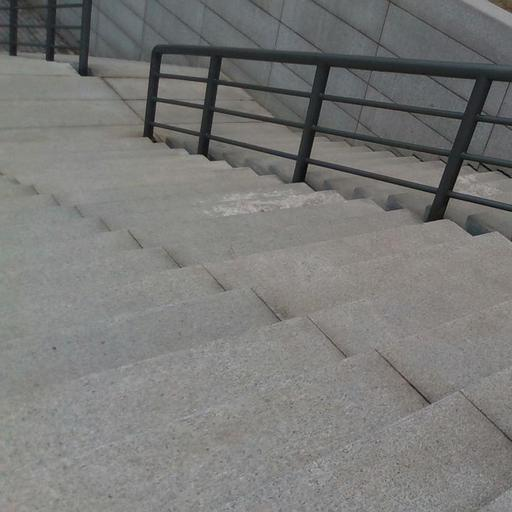stairs: (0, 57, 511, 511)
